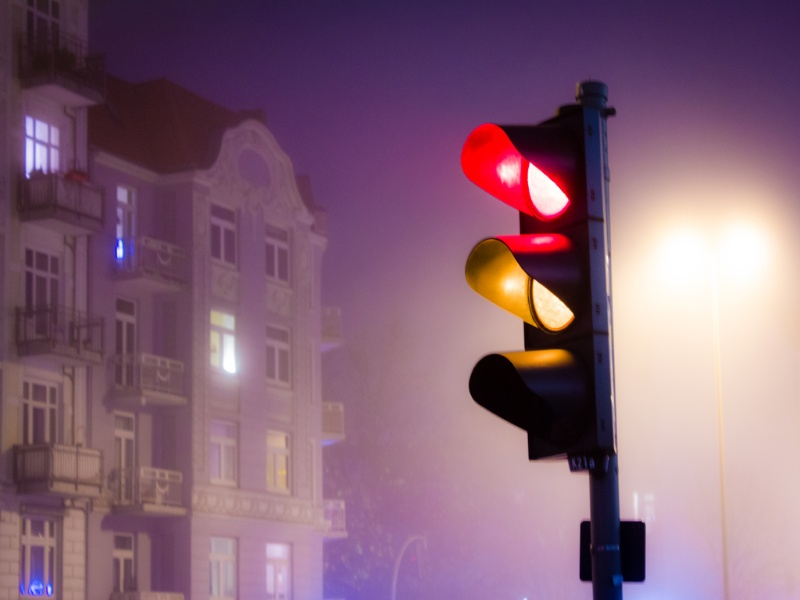red_light: (434, 111, 593, 228)
yellow_light: (447, 240, 600, 343)
